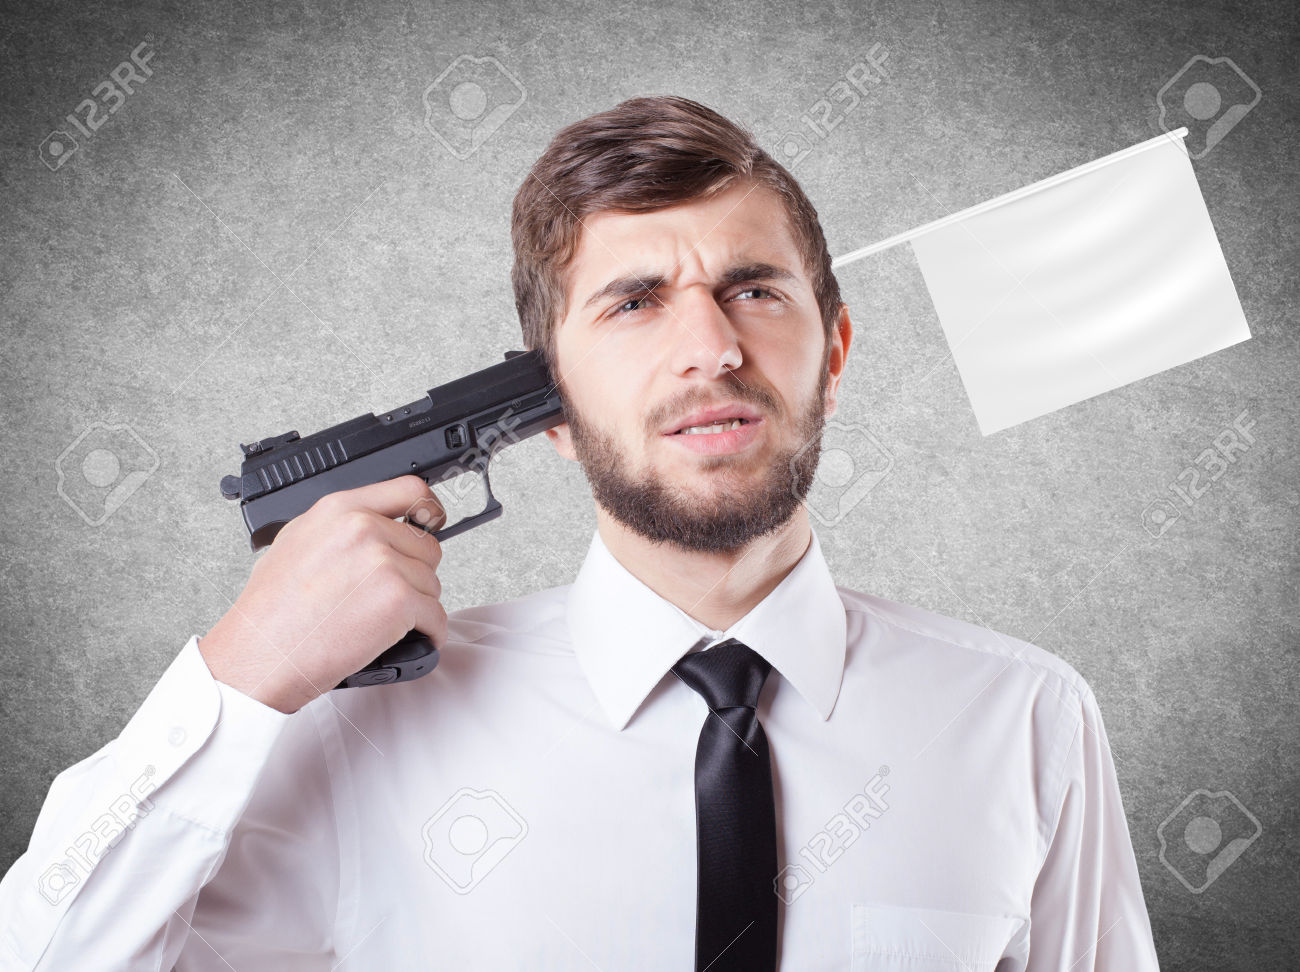pistol: (219, 344, 568, 694)
